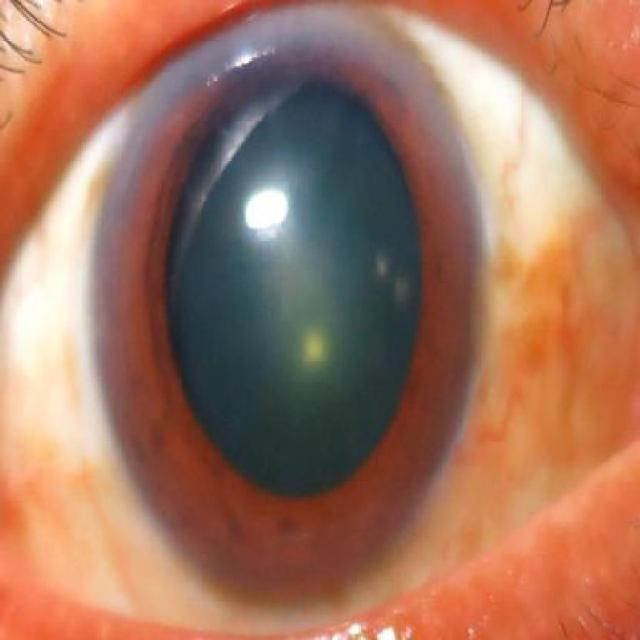Cataract: (87, 0, 483, 608)
